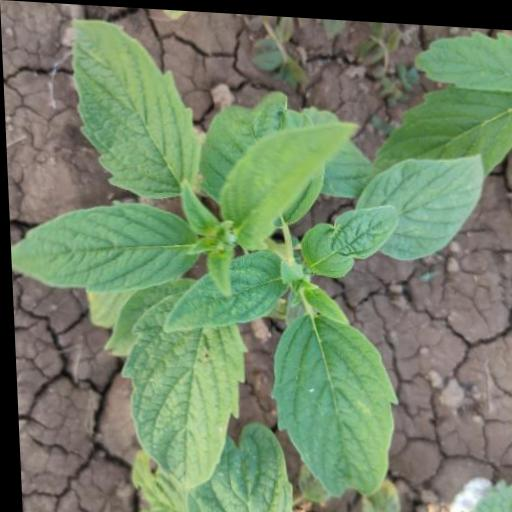crop: (1, 22, 511, 508)
